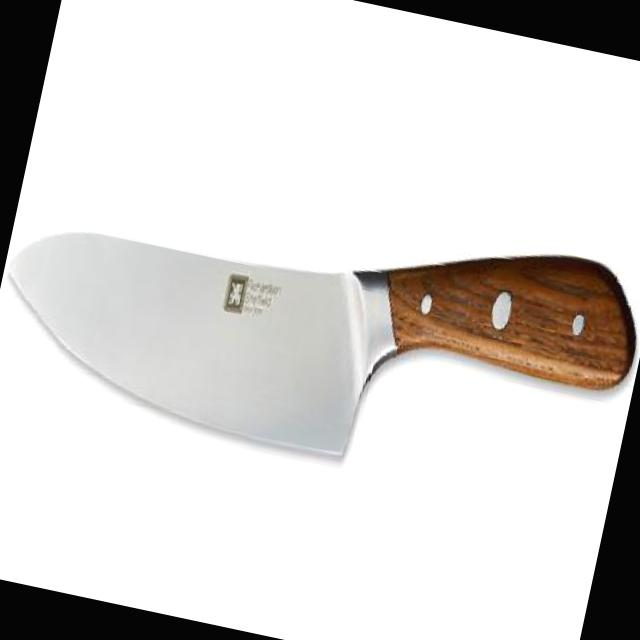knife: (0, 13, 449, 621)
